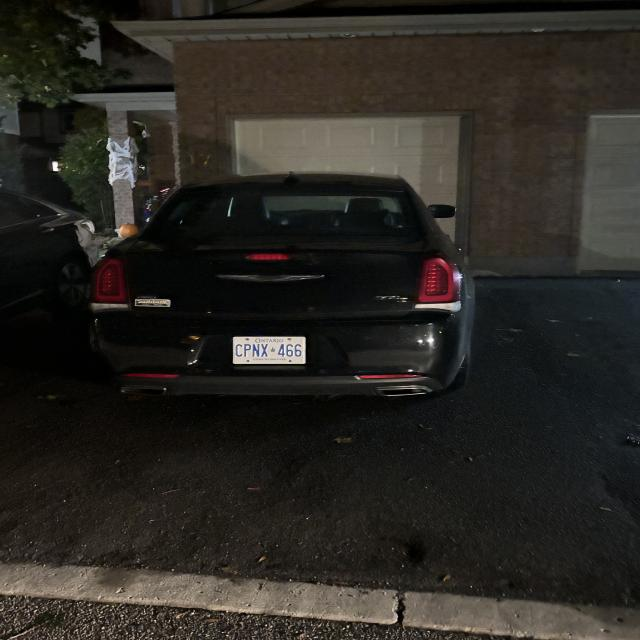plaque: (233, 337, 305, 364)
